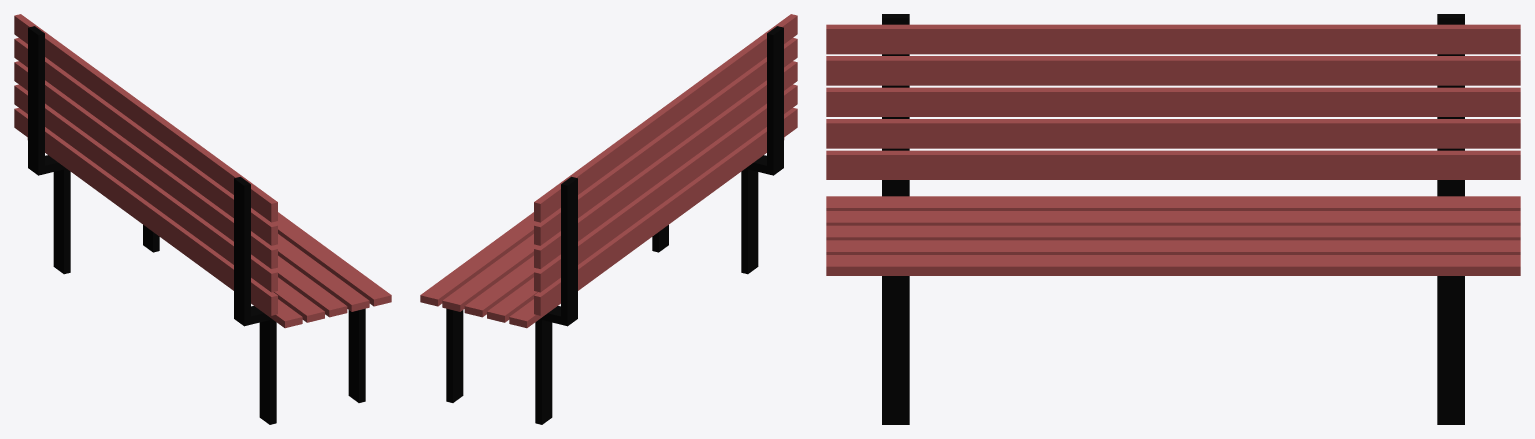
Rendered from BENCH.fbx.
The picture shows the model from 3 angles, left to right: view 1: azimuth 30°, elevation 25°; view 2: azimuth 150°, elevation 25°; view 3: azimuth 270°, elevation 25°; orthographic projection. The views are drawn at different scales.
Visible parts, largest first — view 1: Клон; view 2: Клон; view 3: Клон.
Boxes of the visible parts, box(x1,y1,x2,y2) form: Клон: box(14, 14, 391, 424); Клон: box(420, 14, 797, 424); Клон: box(826, 14, 1520, 424).
Size of the model in its own units: 57 by 105 by 200.
